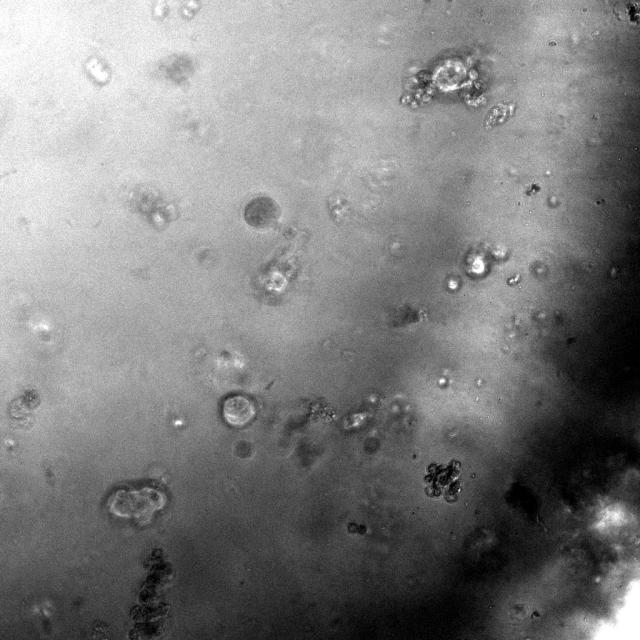organoid: (400, 56, 485, 108), (128, 547, 174, 639), (104, 478, 168, 527), (423, 459, 461, 502), (243, 195, 281, 229), (222, 394, 256, 427), (485, 101, 516, 128), (234, 440, 253, 458), (626, 2, 639, 24), (364, 436, 380, 453), (348, 522, 367, 535)
